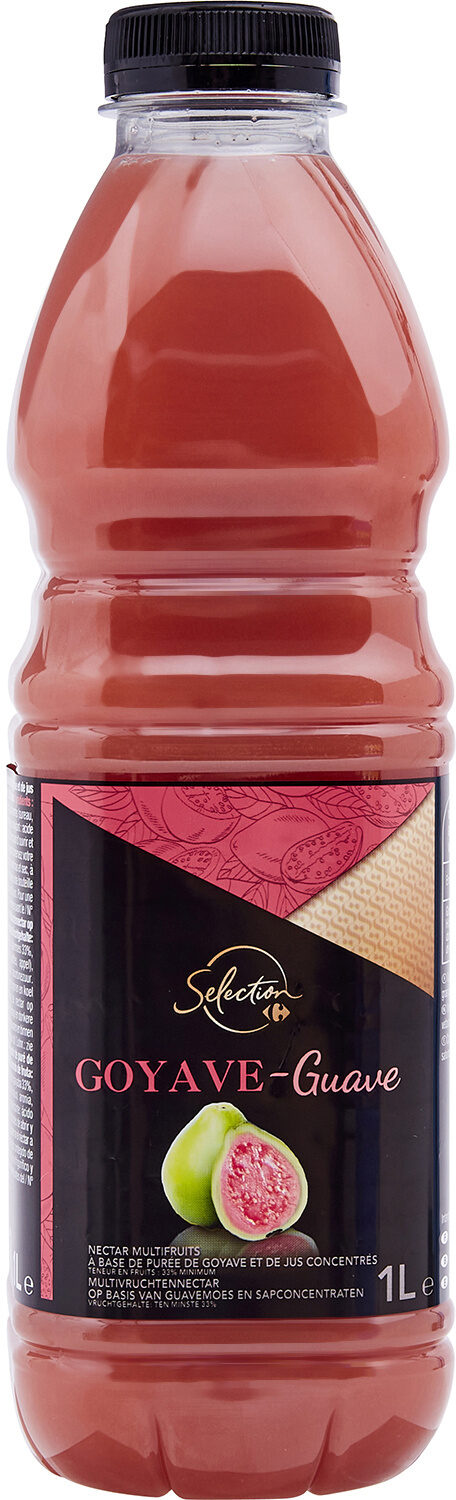Nectar de Goyave: (23, 75, 433, 1425)
